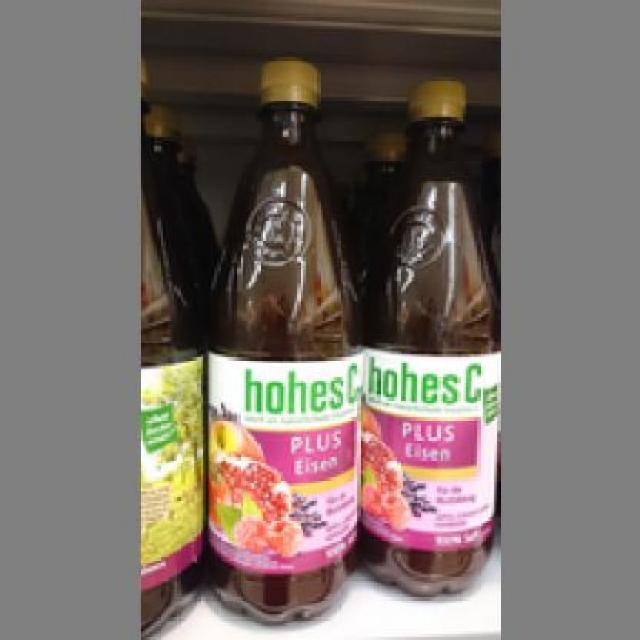Juice: (200, 46, 357, 623), (352, 77, 498, 586)
